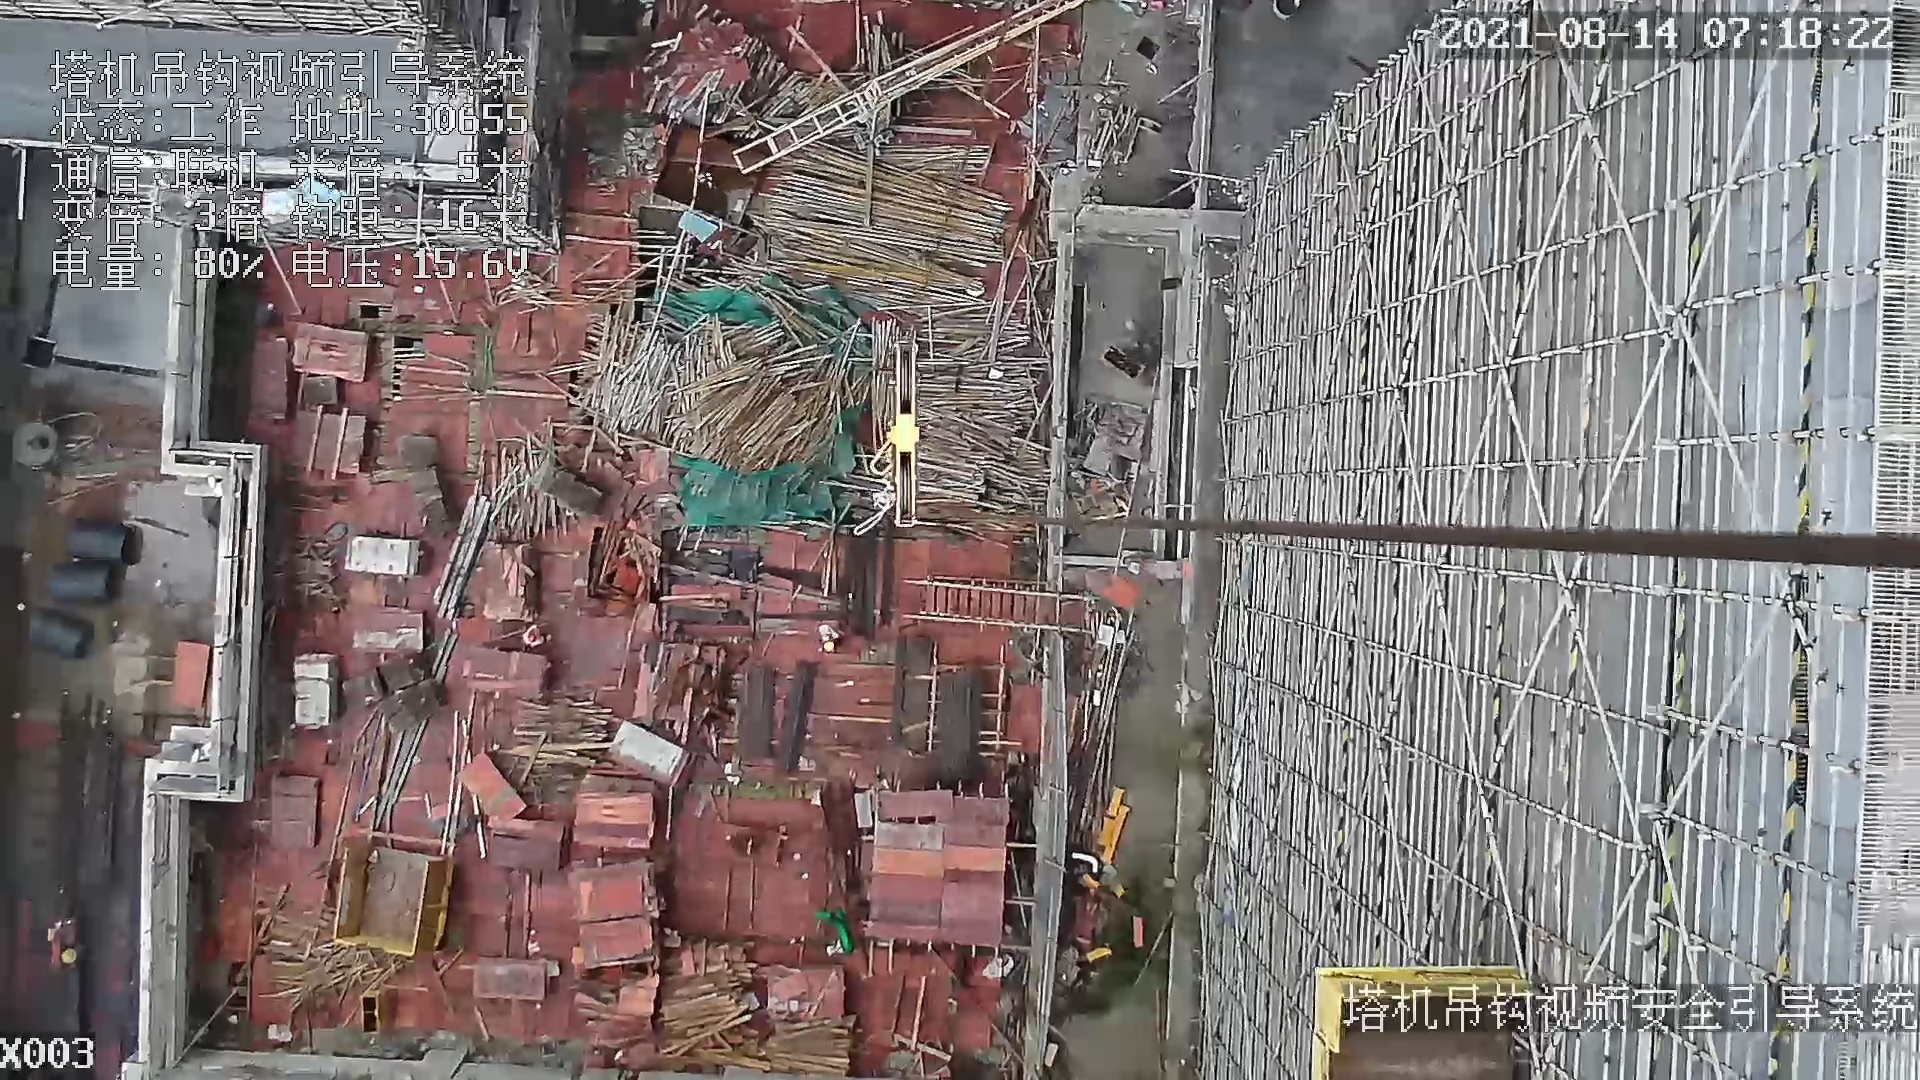hook: (860, 339, 931, 535)
